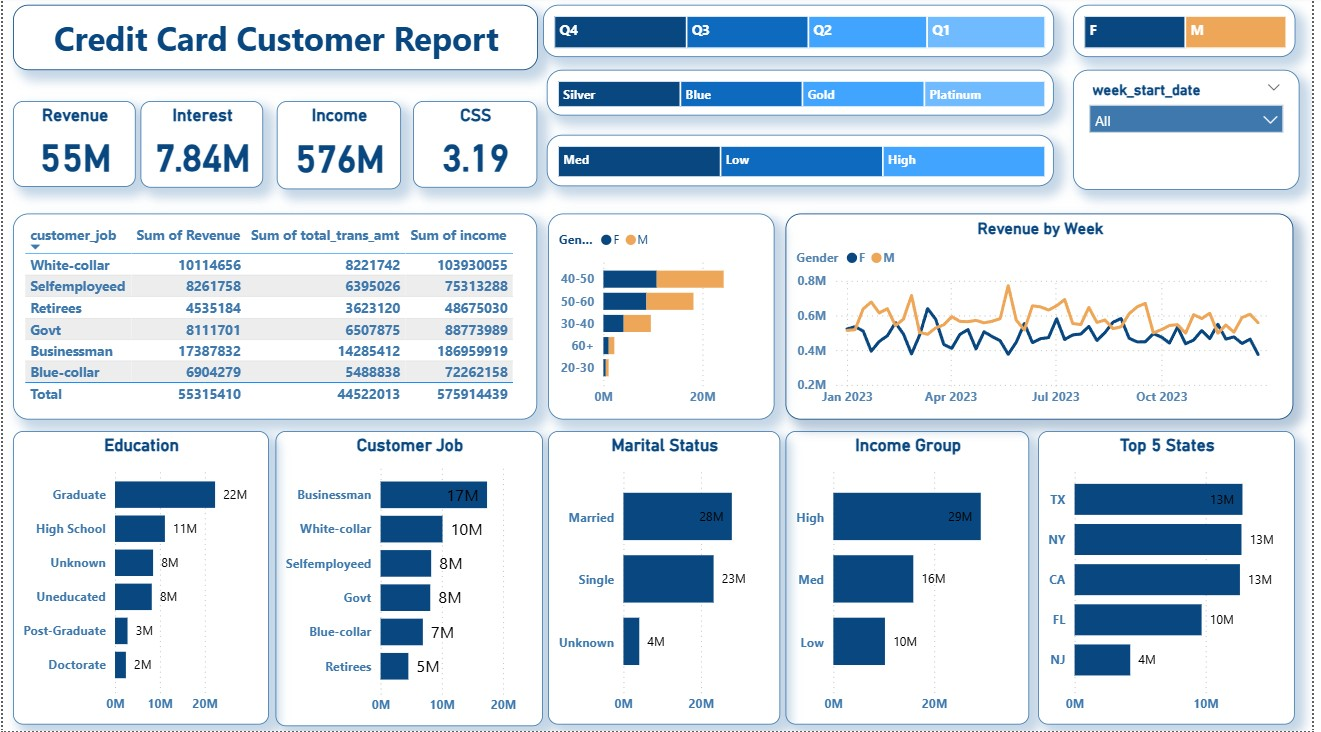

The page's visual inventory and layout, read from the dashboard file:
{"tool":"powerbi","page":{"name":"Customer ","canvas":[1280,720],"ordinal":1},"visuals":[{"type":"textbox","box":[10,8.8,513.8,63.8],"z":0},{"type":"barChart","title":"Income Group","fields":{"Y":["Sum(public cc_detail.Revenue)"],"Category":["public cust_detail.IncomeGroup"]},"box":[765.7,425.7,238.6,287.1],"z":1000},{"type":"tableEx","fields":{"Values":["public cust_detail.customer_job","Sum(public cc_detail.Revenue)","Sum(public cc_detail.total_trans_amt)","Sum(public cust_detail.income)"]},"box":[10,212.7,512.7,201.3],"z":2000},{"type":"card","title":"Revenue","fields":{"Values":["Sum(public cc_detail.Revenue)"]},"box":[10,102.5,120,83.8],"z":3000},{"type":"card","title":"Interest","fields":{"Values":["Sum(public cc_detail.interest_earned)"]},"box":[135,102.5,120,85],"z":4000},{"type":"card","title":"Income","fields":{"Values":["Sum(public cust_detail.income)"]},"box":[267.5,102.5,121.2,86.2],"z":5000},{"type":"card","title":"CSS","fields":{"Values":["Avg(public cust_detail.cust_satisfaction_score)"]},"box":[401.2,102.5,121.2,85],"z":6000},{"type":"treemap","fields":{"Group":["public cc_detail.qtr"],"Values":["Avg(public cust_detail.client_num)"]},"box":[528.8,8.8,500,51.2],"z":7000},{"type":"treemap","fields":{"Values":["Avg(public cust_detail.client_num)"],"Group":["public cust_detail.gender"]},"box":[1046.2,8.8,217.5,51.2],"z":8000},{"type":"treemap","fields":{"Values":["Avg(public cust_detail.client_num)"],"Group":["public cc_detail.card_category"]},"box":[532.5,72.5,496.2,45],"z":9000},{"type":"lineChart","title":"Revenue by Week","fields":{"Series":["public cust_detail.gender"],"Y":["Sum(public cc_detail.Revenue)"],"Category":["public cc_detail.week_start_date.Variation.Date Hierarchy.Year","public cc_detail.week_start_date.Variation.Date Hierarchy.Quarter","public cc_detail.week_start_date.Variation.Date Hierarchy.Month","public cc_detail.week_start_date.Variation.Date Hierarchy.Day"]},"box":[765.7,212.9,497.1,201.4],"z":10000},{"type":"barChart","title":"Age Group","fields":{"Category":["public cust_detail.AgrGroup"],"Y":["Sum(public cc_detail.Revenue)"],"Series":["public cust_detail.gender"]},"box":[532.7,212.7,221.3,201.3],"z":11000},{"type":"barChart","title":"Customer Job","fields":{"Y":["Sum(public cc_detail.Revenue)"],"Category":["public cust_detail.customer_job"]},"box":[267.1,425.7,261.4,288.6],"z":12000},{"type":"barChart","title":"Education","fields":{"Y":["Sum(public cc_detail.Revenue)"],"Category":["public cust_detail.education_level"]},"box":[10,425.7,250,287.1],"z":13000},{"type":"barChart","title":"Marital Status","fields":{"Y":["Sum(public cc_detail.Revenue)"],"Category":["public cust_detail.marital_status"]},"box":[532.9,425.7,227.1,287.1],"z":14000},{"type":"barChart","title":"Top 5 States","fields":{"Y":["Sum(public cc_detail.Revenue)"],"Category":["public cust_detail.state_cd"]},"box":[1012.9,425.7,251.4,287.1],"z":15000},{"type":"slicer","fields":{"Values":["public cc_detail.week_start_date"]},"box":[1046.2,72.5,221.2,117.5],"z":16000},{"type":"treemap","fields":{"Values":["Avg(public cust_detail.client_num)"],"Group":["public cust_detail.IncomeGroup"]},"box":[532.5,136.2,496.2,50],"z":17000}]}

Visuals, with their boxes in screenshot pixels (x1, y1, x2, y2), scaled from the page's 1280x720 canvas onto the 1321x732 screenshot:
textbox: <box>10,9,541,74</box>
"Income Group" barChart: <box>790,433,1036,725</box>
tableEx - public cust_detail.customer_job x Sum(public cc_detail.Revenue): <box>10,216,539,421</box>
"Revenue" card: <box>10,104,134,189</box>
"Interest" card: <box>139,104,263,191</box>
"Income" card: <box>276,104,401,192</box>
"CSS" card: <box>414,104,539,191</box>
treemap - public cc_detail.qtr x Avg(public cust_detail.client_num): <box>546,9,1062,61</box>
treemap - Avg(public cust_detail.client_num) x public cust_detail.gender: <box>1080,9,1304,61</box>
treemap - Avg(public cust_detail.client_num) x public cc_detail.card_category: <box>550,74,1062,119</box>
"Revenue by Week" lineChart: <box>790,216,1303,421</box>
"Age Group" barChart: <box>550,216,778,421</box>
"Customer Job" barChart: <box>276,433,545,726</box>
"Education" barChart: <box>10,433,268,725</box>
"Marital Status" barChart: <box>550,433,784,725</box>
"Top 5 States" barChart: <box>1045,433,1305,725</box>
slicer - public cc_detail.week_start_date: <box>1080,74,1308,193</box>
treemap - Avg(public cust_detail.client_num) x public cust_detail.IncomeGroup: <box>550,138,1062,189</box>
